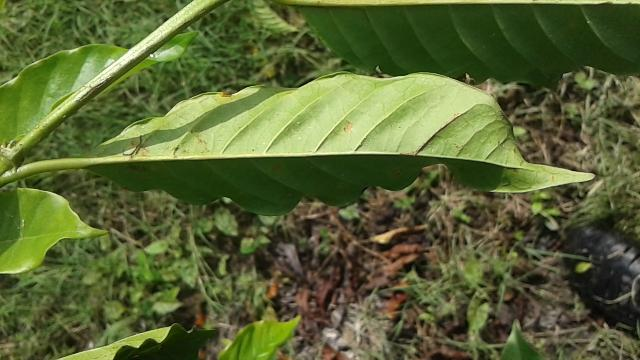rust_level_1: (80, 68, 605, 216)
